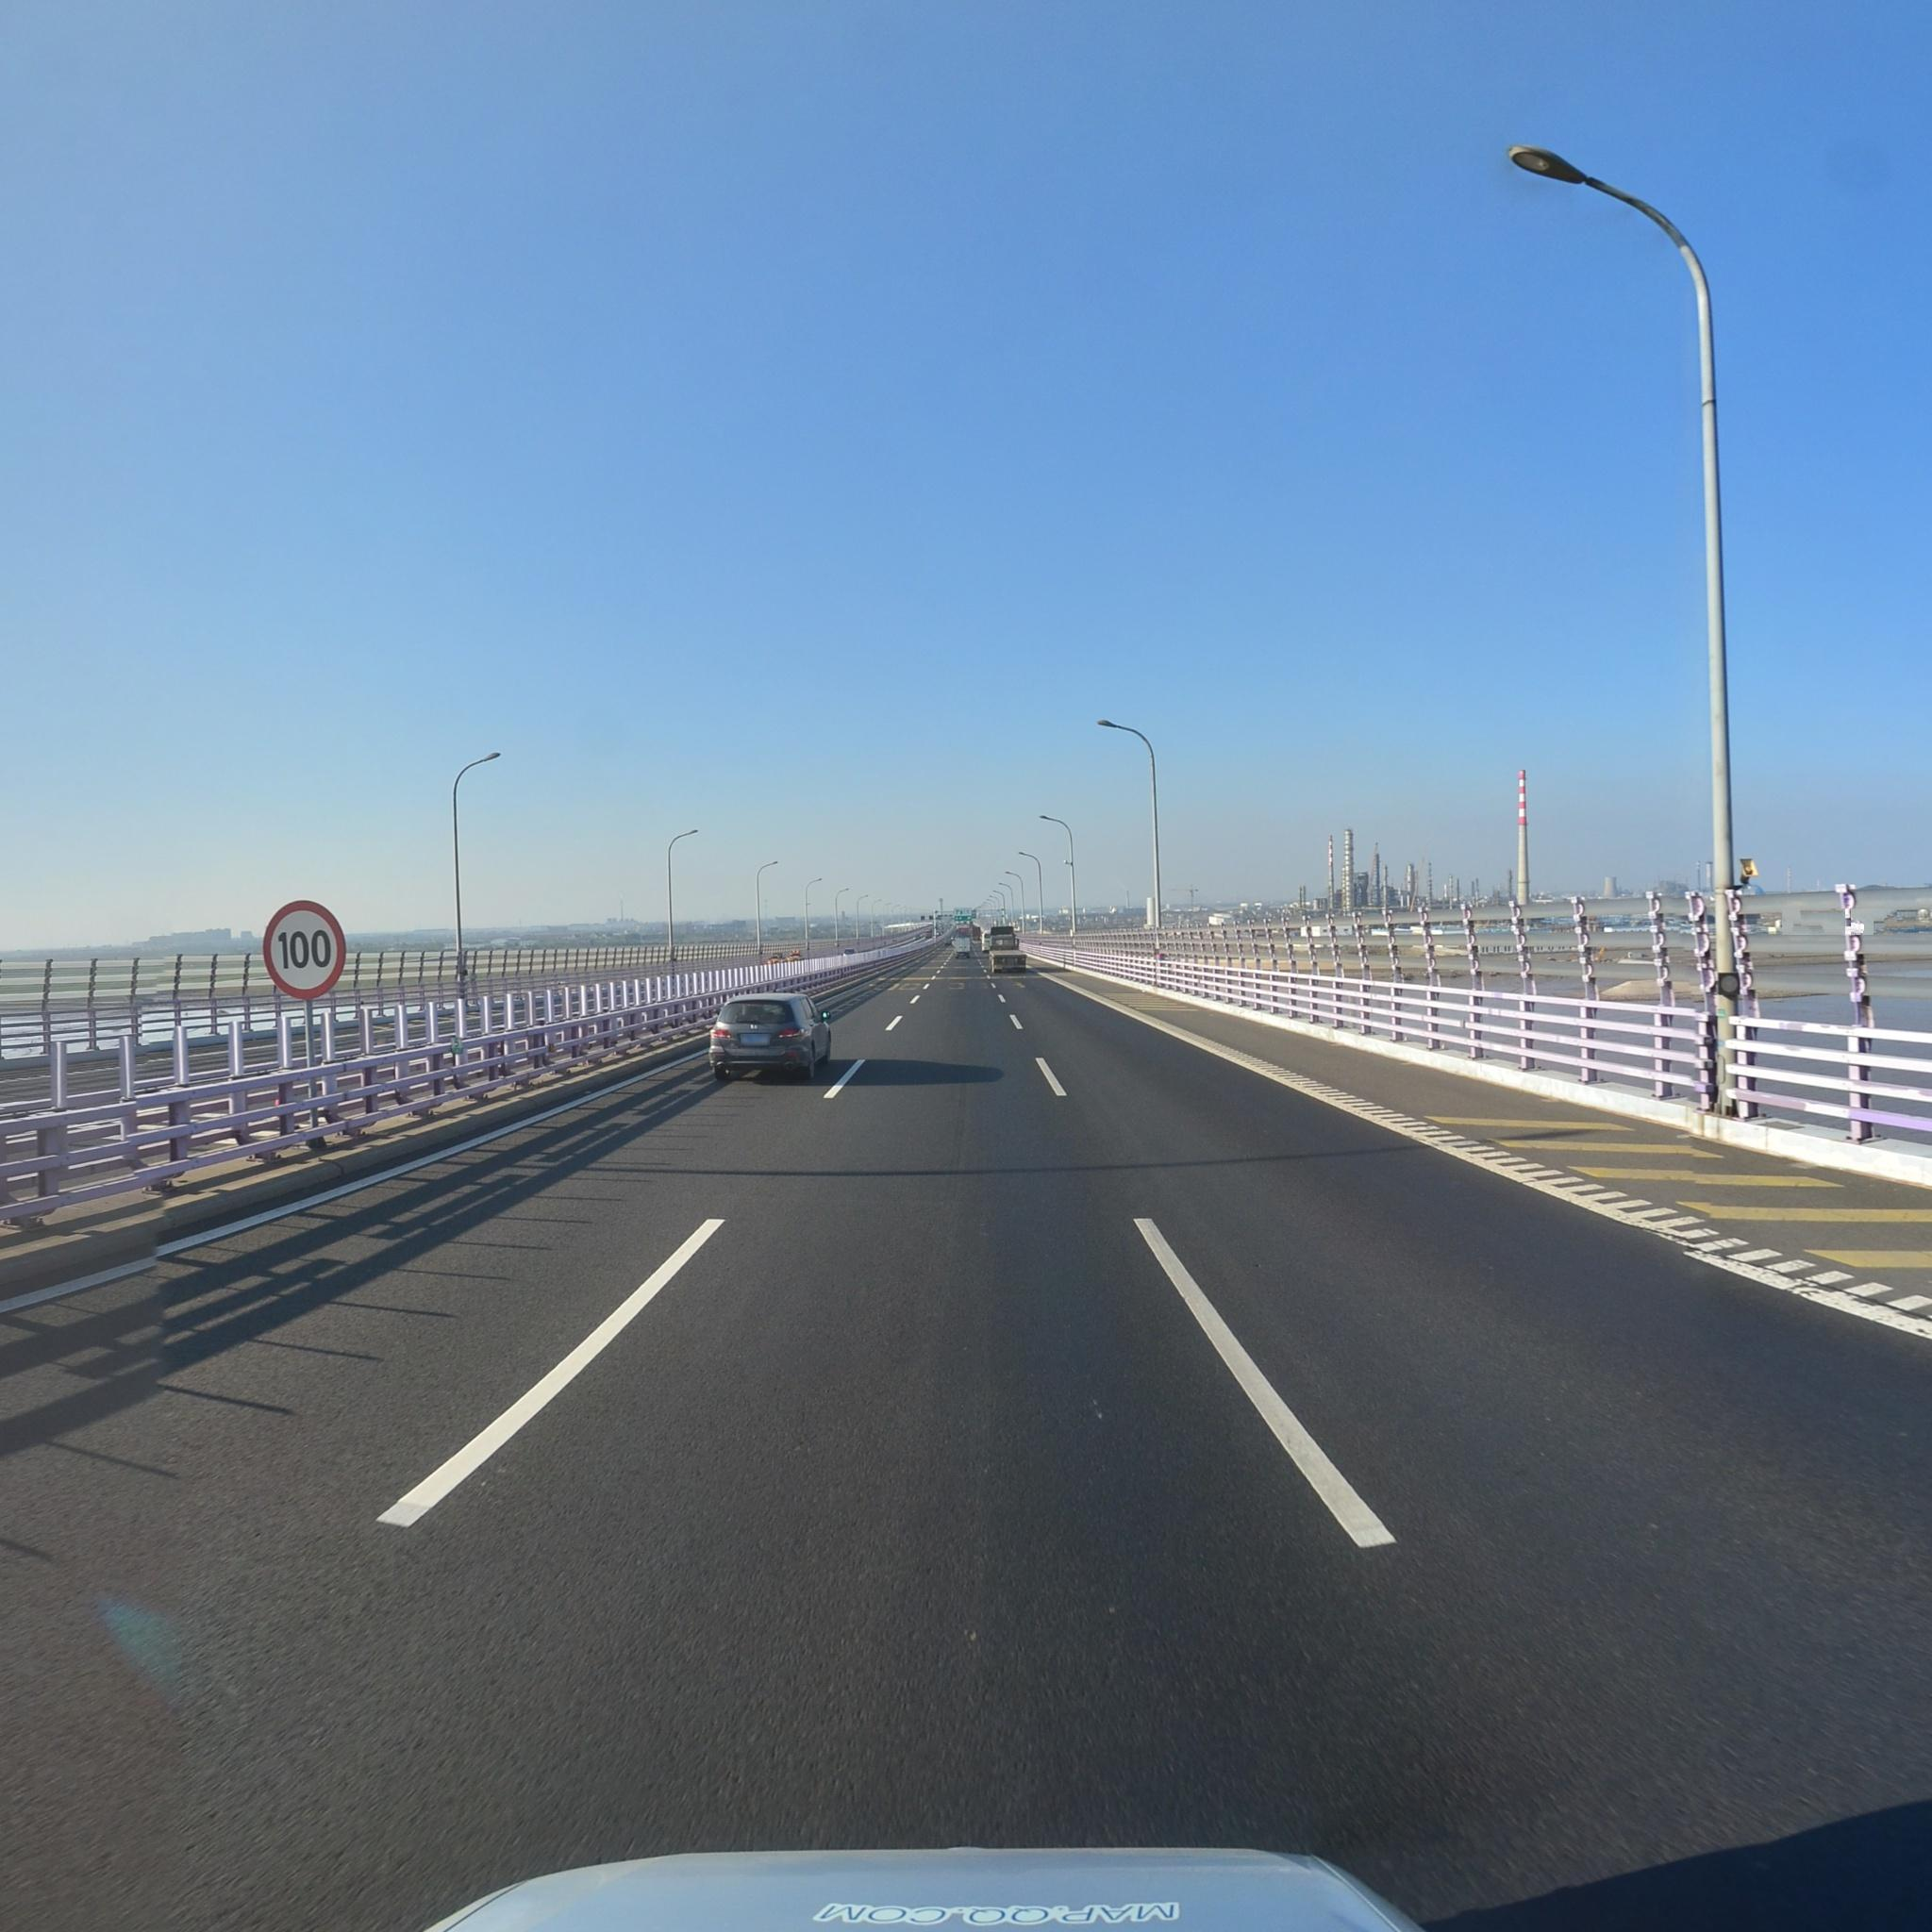pl100: (262, 902, 349, 1003)
